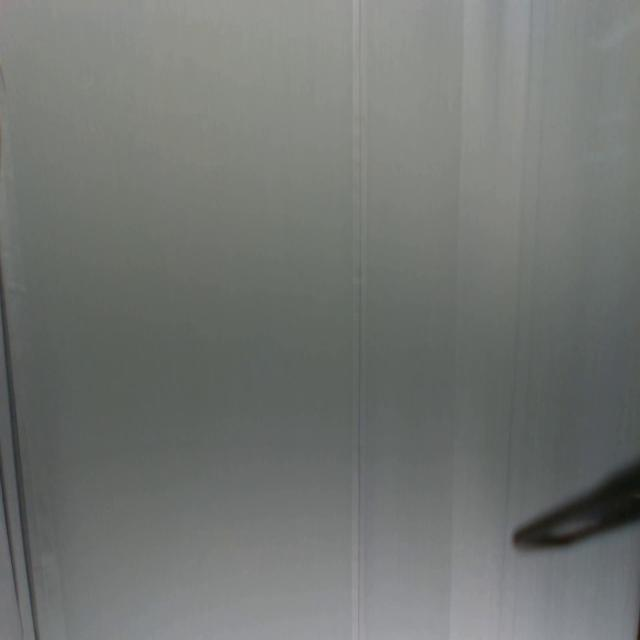crease: (504, 1, 537, 507), (0, 260, 42, 639), (352, 1, 369, 639), (0, 457, 25, 637)
